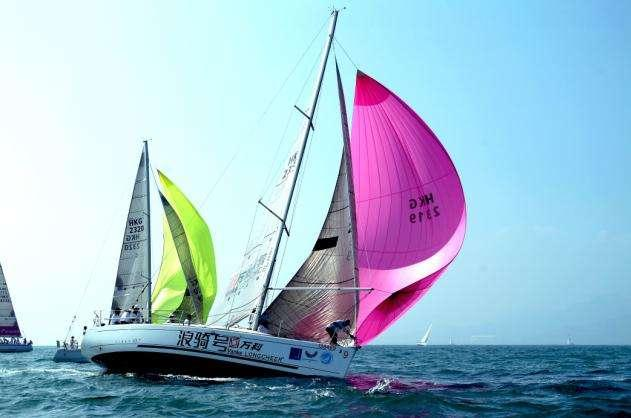fanchuan: (77, 9, 468, 381), (51, 140, 217, 364)
